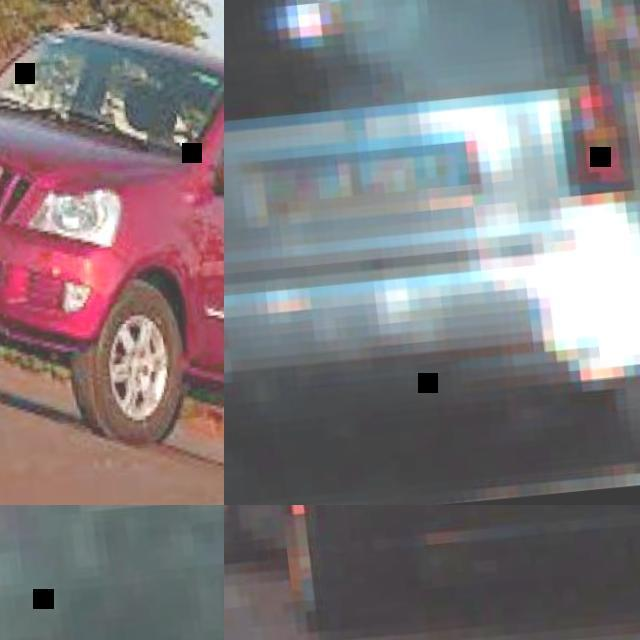car: (5, 10, 229, 479)
